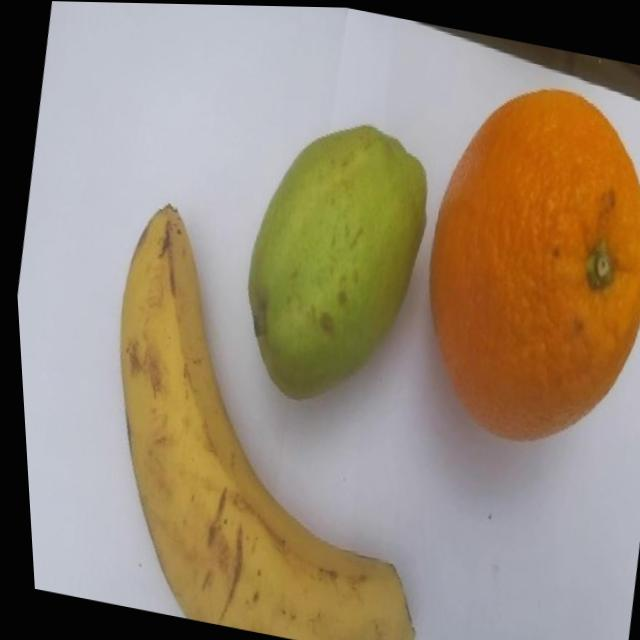Banana: (60, 194, 474, 640)
Orange: (388, 65, 640, 463)
